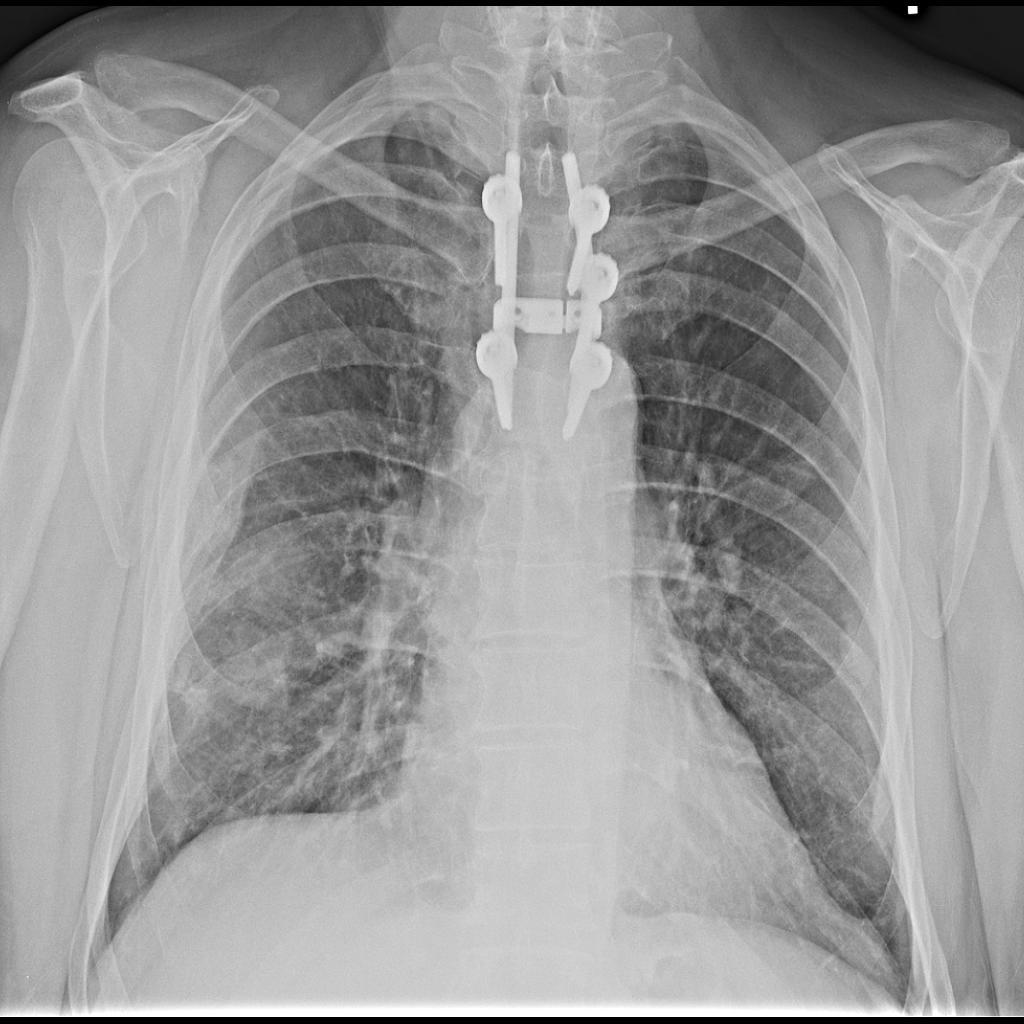Nodule: (216, 614, 306, 712), (225, 537, 330, 616)
